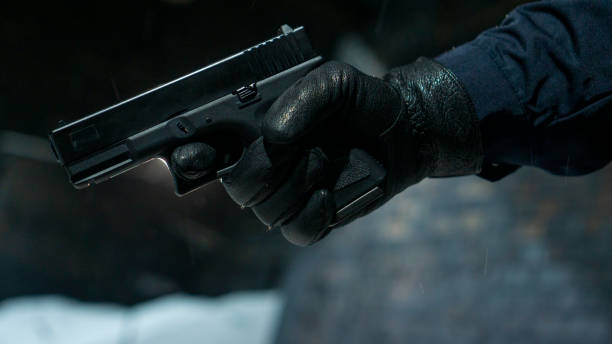gun: (50, 21, 388, 231)
